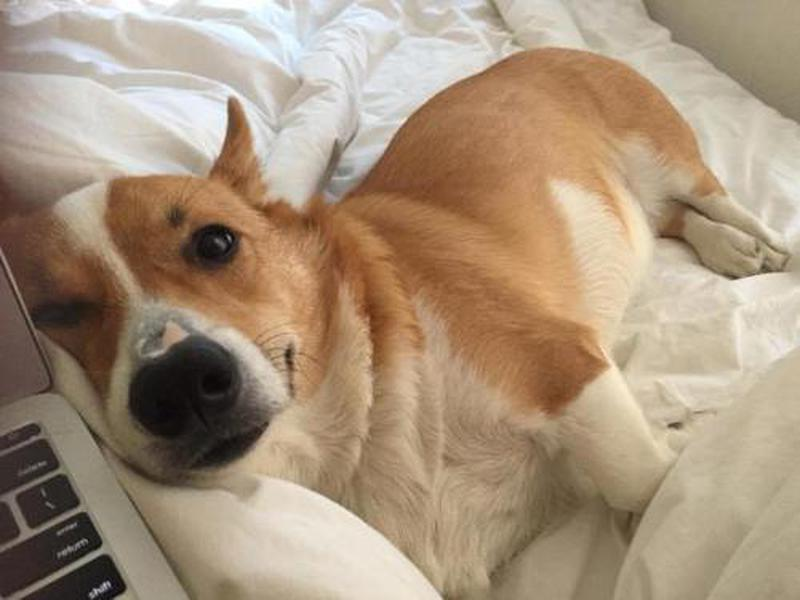corgi: (10, 99, 321, 474)
